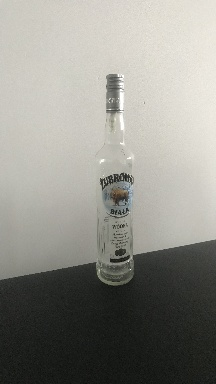butelka: (93, 70, 135, 288)
